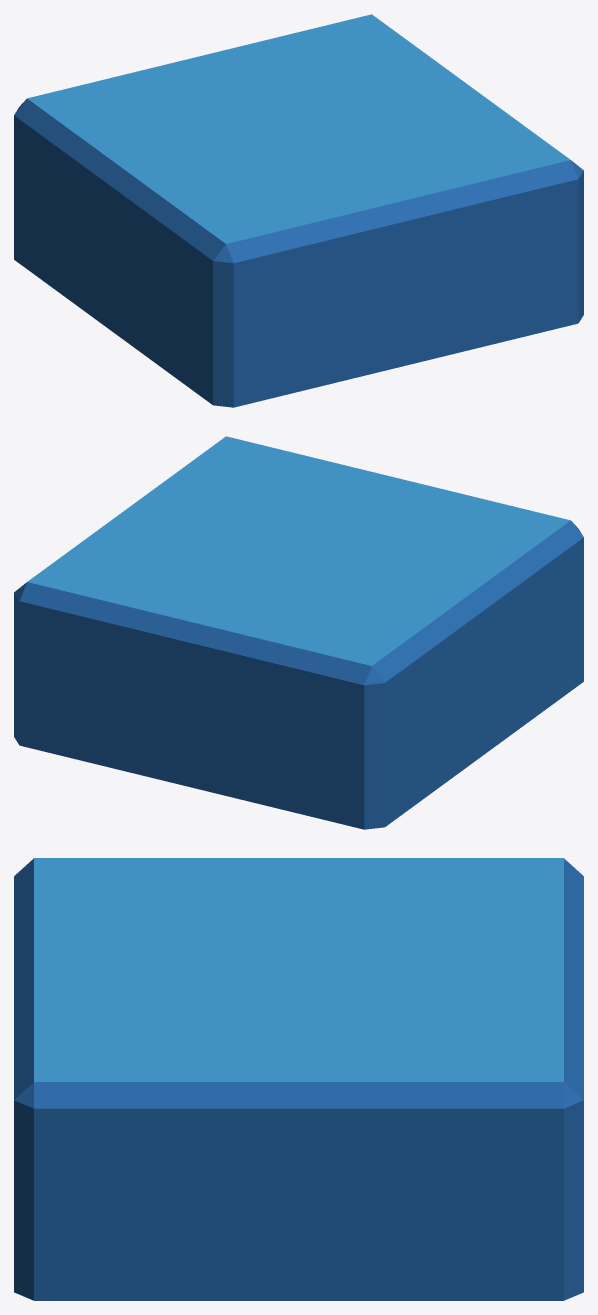
File: floor1.fbx
3 renders of one model, top to bottom at view 1: azimuth 30°, elevation 25°; view 2: azimuth 150°, elevation 25°; view 3: azimuth 270°, elevation 25°, orthographic. The views are drawn at different scales.
Visible parts, largest first — view 1: Floor_1x1; view 2: Floor_1x1; view 3: Floor_1x1.
Boxes of the visible parts, x1,y1,x2,y2 form: Floor_1x1: (14, 14, 583, 407); Floor_1x1: (14, 436, 583, 829); Floor_1x1: (14, 858, 583, 1300).
Size of the model in its own units: 1 by 0.4072 by 1.
